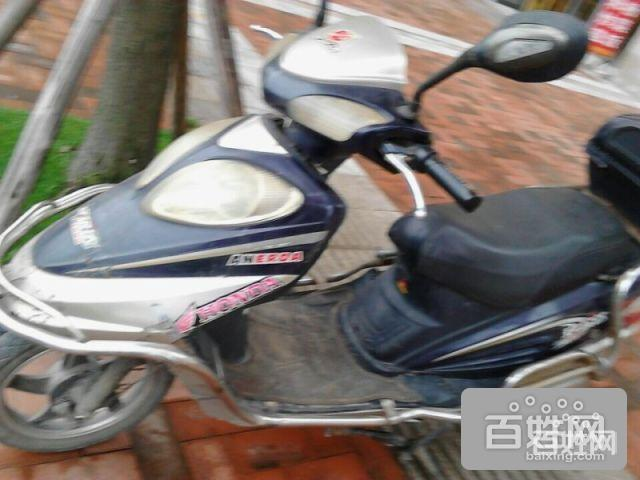电动车: (11, 21, 638, 458)
